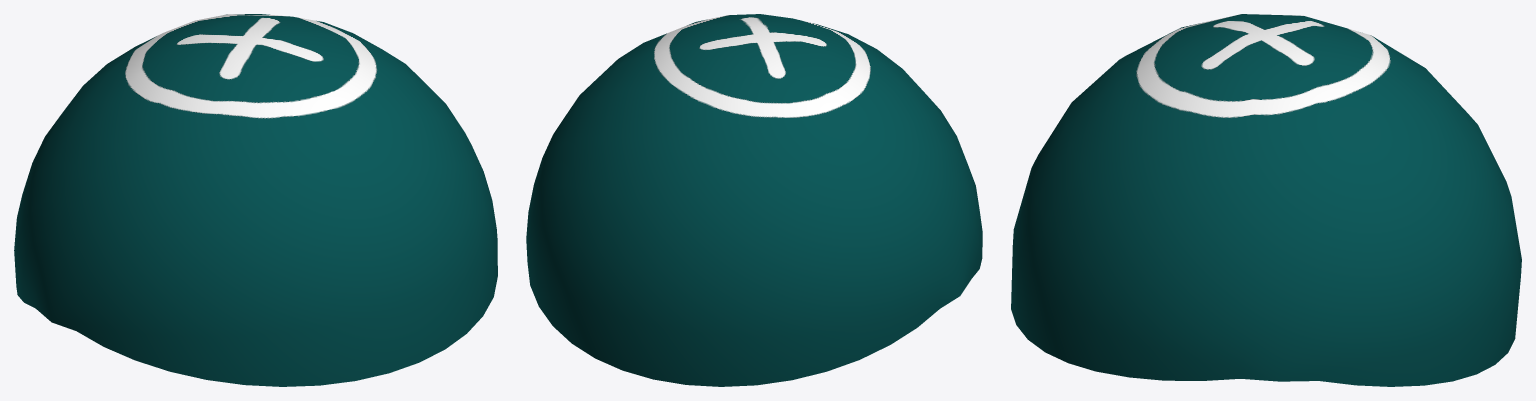
Rendered from Rings_Button_Remove.fbx.
The picture shows the model from 3 angles, left to right: view 1: azimuth 30°, elevation 25°; view 2: azimuth 150°, elevation 25°; view 3: azimuth 270°, elevation 25°; orthographic projection. The views are drawn at different scales.
Parts seen in each view (by area): view 1: pSphere47; view 2: pSphere47; view 3: pSphere47.
Boxes of the visible parts, left/top/right/bottom form: pSphere47: left=14, top=14, right=497, bottom=386; pSphere47: left=526, top=14, right=982, bottom=386; pSphere47: left=1011, top=14, right=1521, bottom=386.
Bounding box in the file's own units: 4.48 × 2.81 × 4.47.
Materials: 1 (1 with a texture image).
